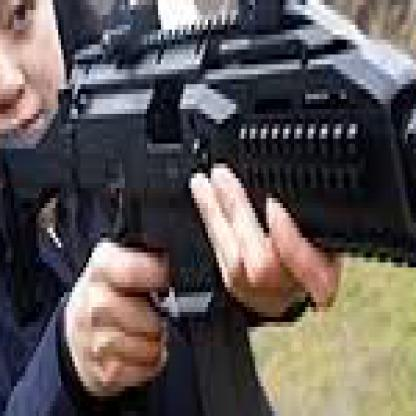gun: (0, 238, 413, 411)
